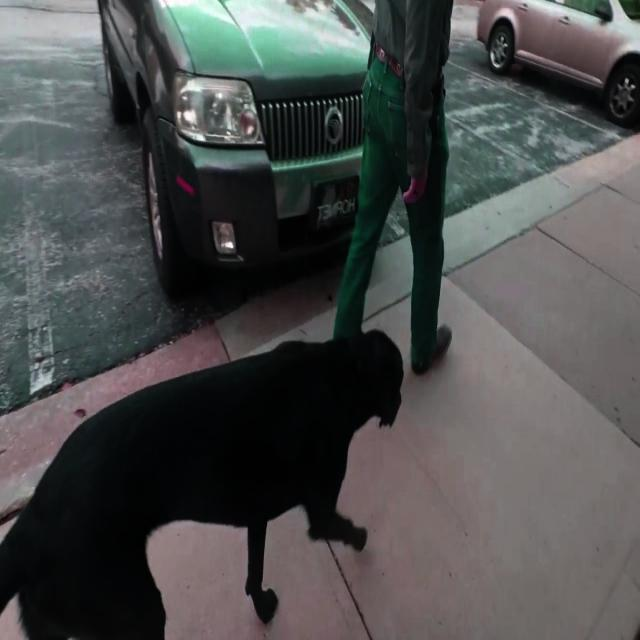Unleashed_Dog: (0, 149, 404, 640)
